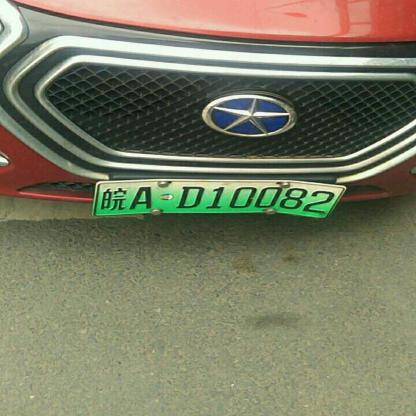lp: (94, 184, 343, 217)
